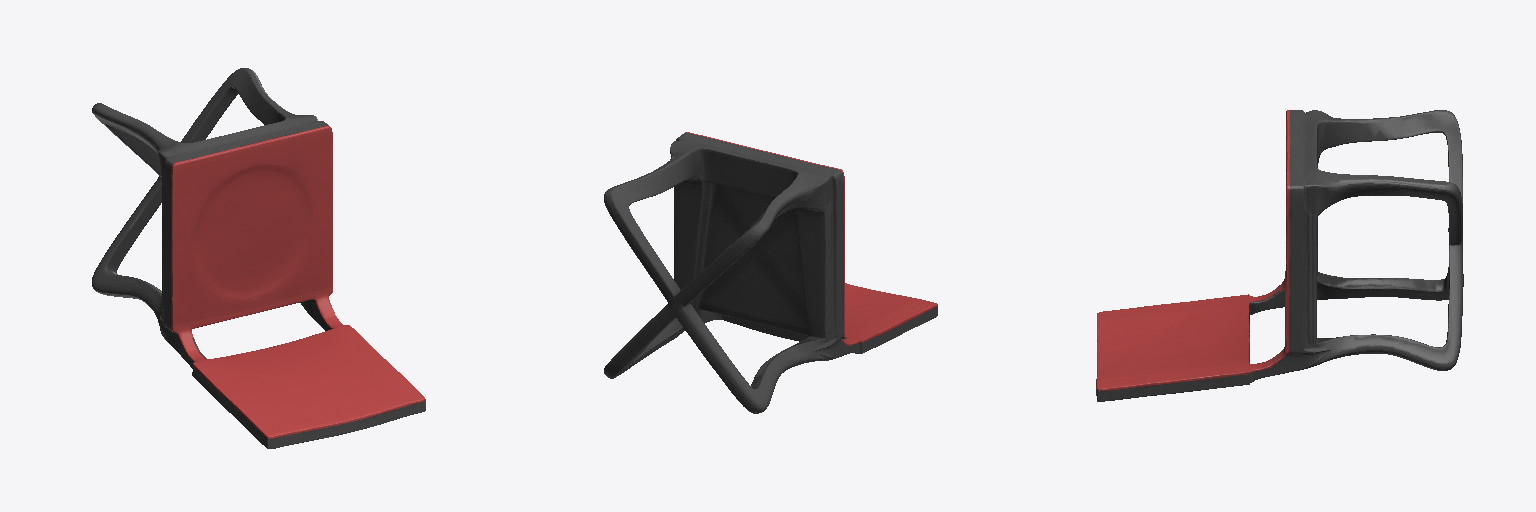
The picture shows the model from 3 angles: view 1: azimuth 30°, elevation 25°; view 2: azimuth 150°, elevation 25°; view 3: azimuth 270°, elevation 25°; orthographic projection.
Bounding box in the file's own units: 0.4171 × 0.5444 × 0.8182.
1 materials, 1 textured.